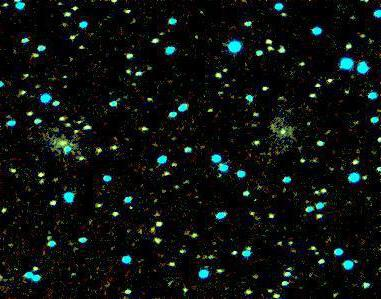star: (48, 128, 78, 158)
